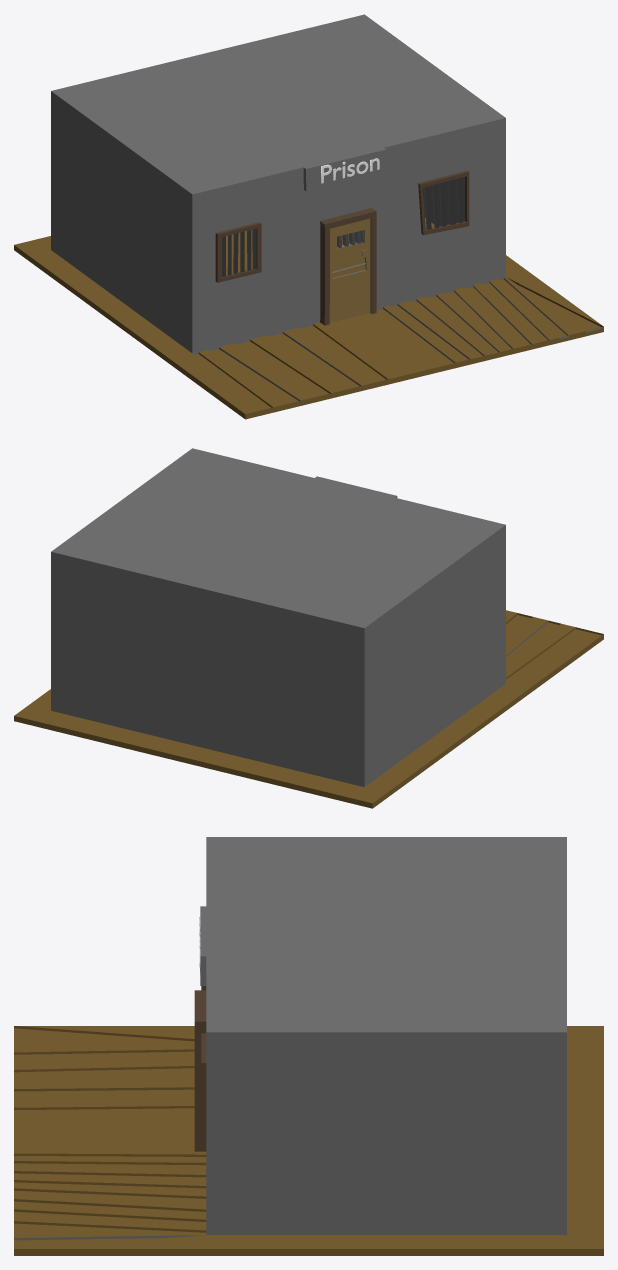
Rendered from Prisonfbx (1).fbx.
3 views of the same model, one above another, from view 1: azimuth 30°, elevation 25°; view 2: azimuth 150°, elevation 25°; view 3: azimuth 270°, elevation 25° (orthographic). The views are drawn at different scales.
Visible parts, largest first — view 1: Cube; view 2: Cube; view 3: Cube.
Boxes of the visible parts, x1,y1,x2,y2 form: Cube: (14,14,603,419); Cube: (14,448,603,808); Cube: (14,837,603,1255).
Size of the model in its own units: 298 by 131 by 333.
